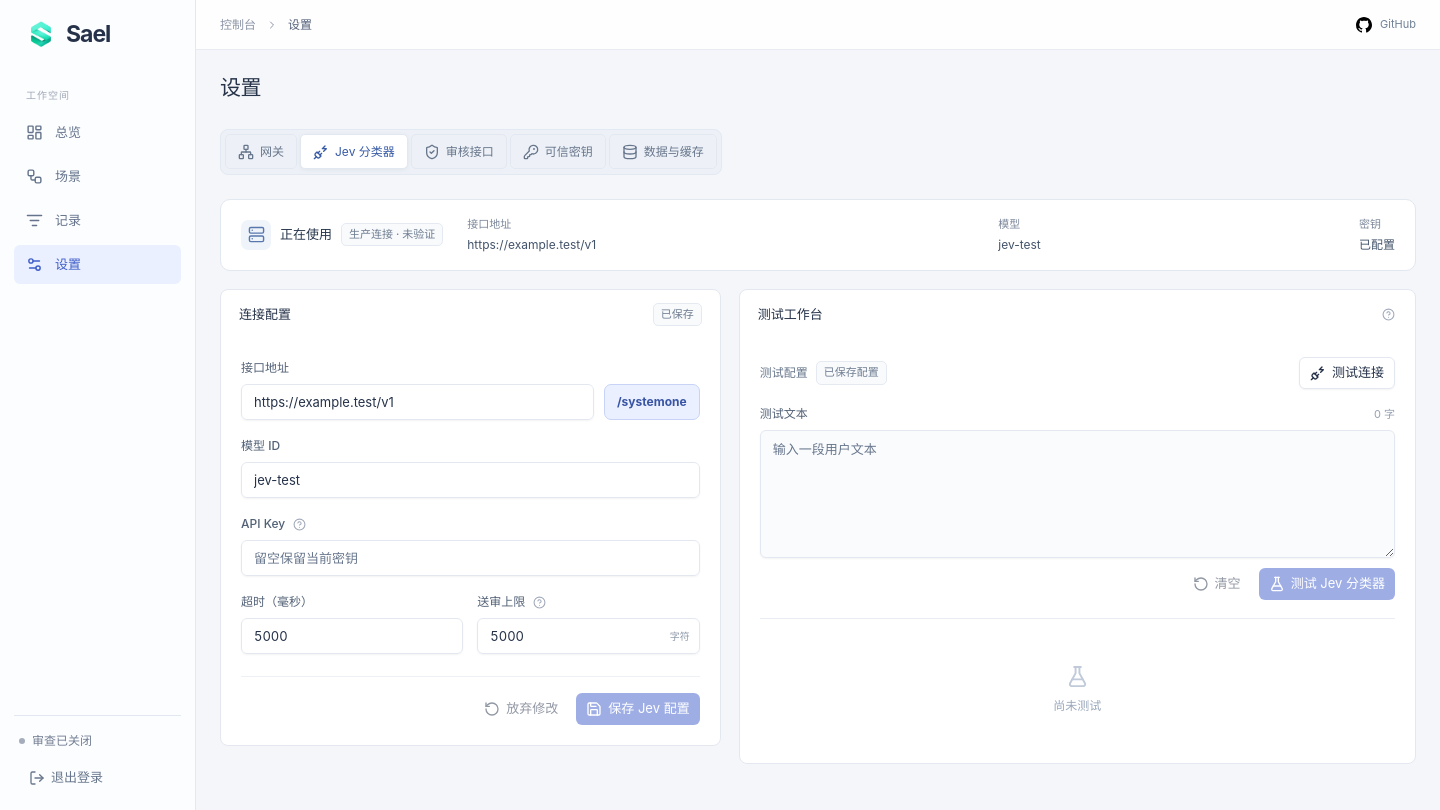
Test: refreshes production Jev status only after saved tests (draft=false, failed=false)
The width and height of the screenshot is (1440, 810).
Expected: the text "生产连接 · 未验证" is shown, [341,223,443,246]
Click the button "测试连接" at (1347, 373), box [1299,357,1395,389]
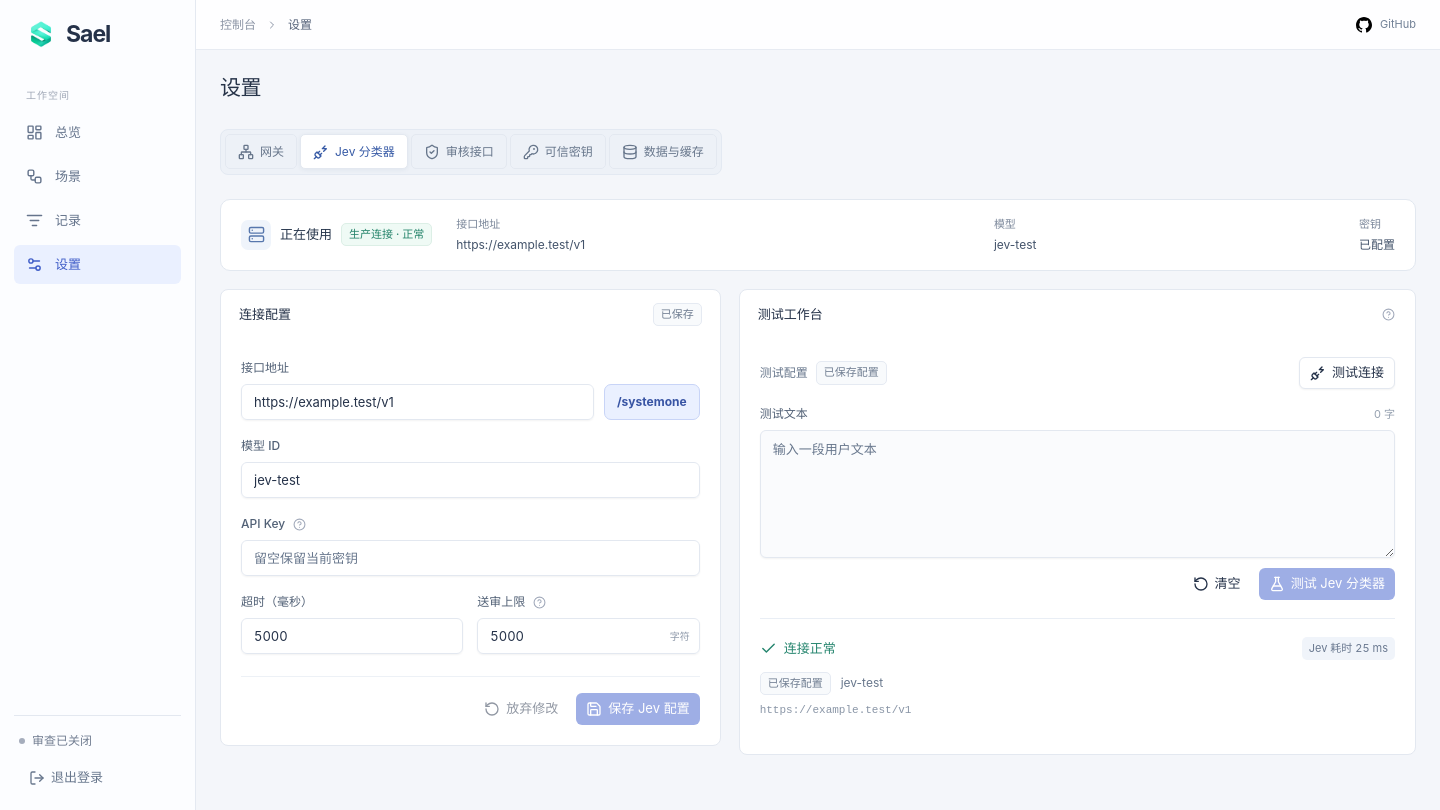
Expected: the text "生产连接 · 正常" is shown, [341,223,432,246]
Expected: the text "连接正常" is shown, [784,638,836,658]
